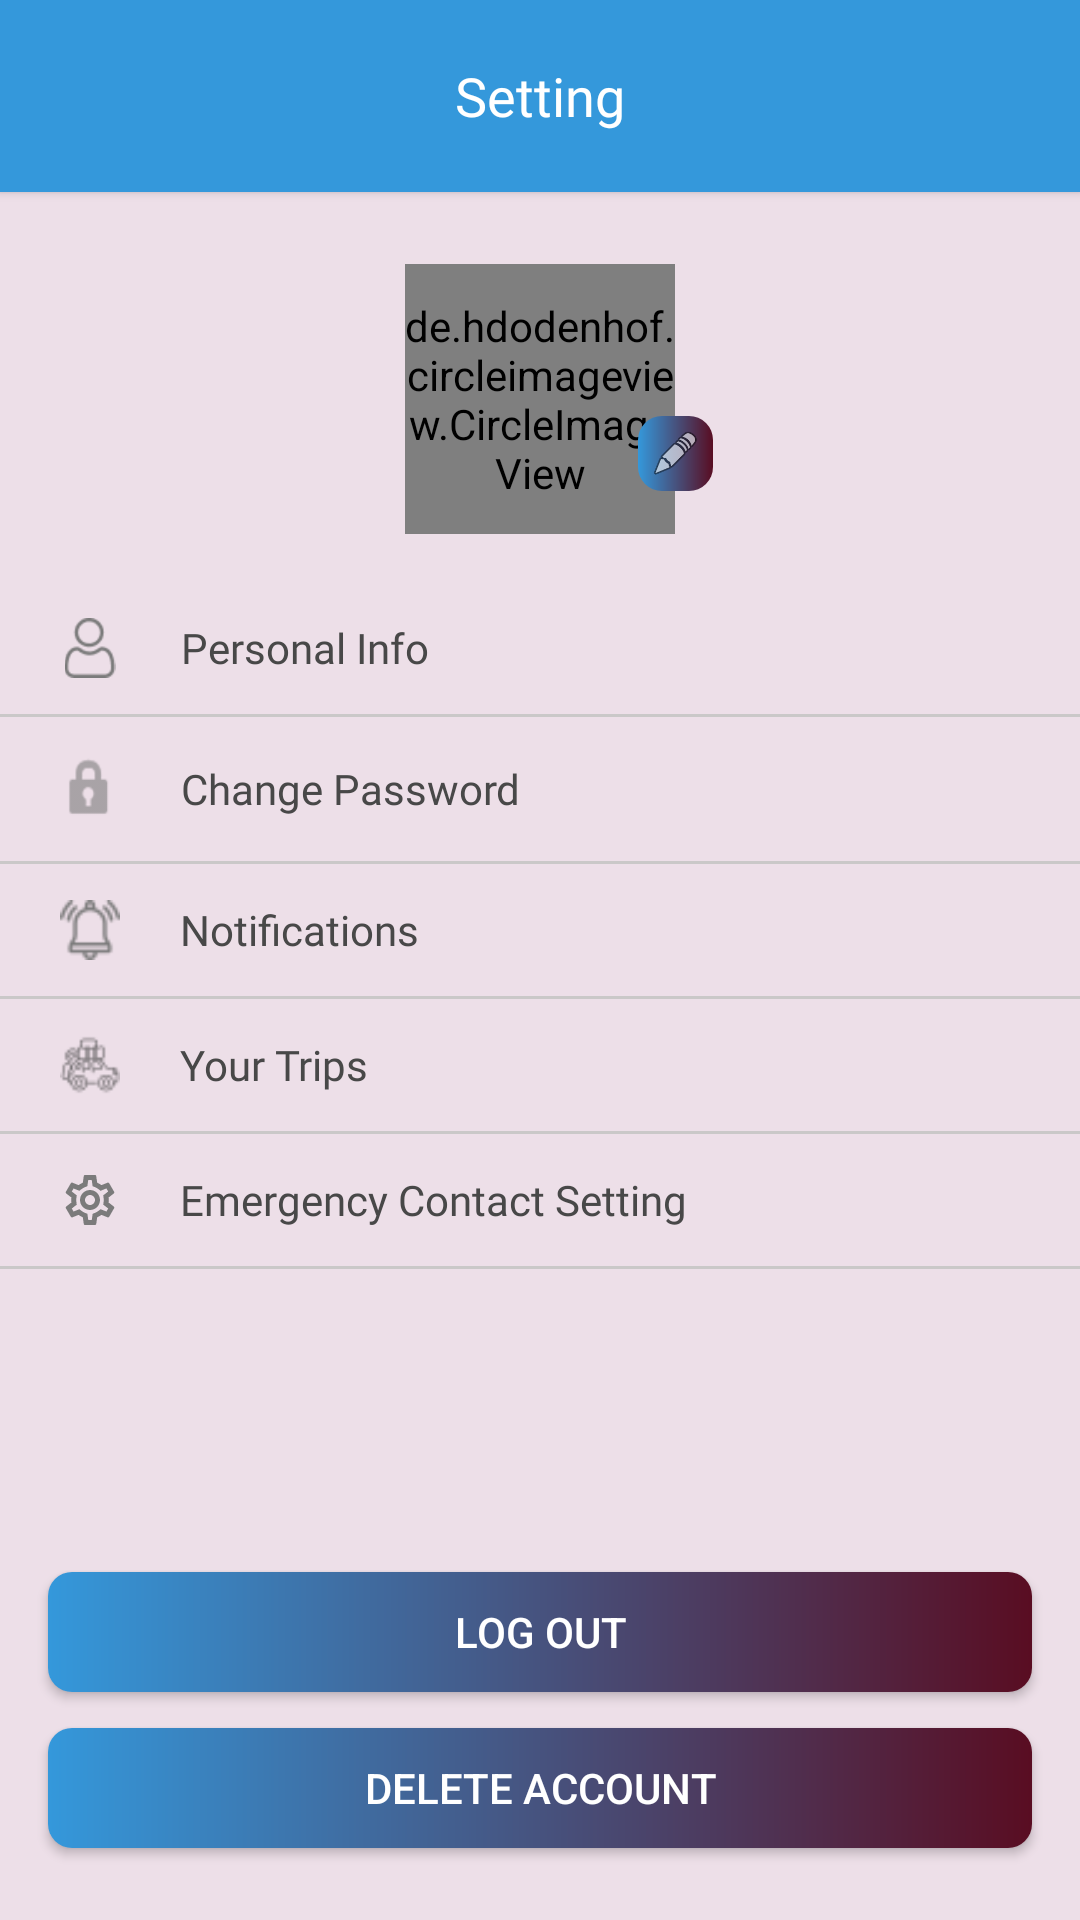

Icons on this 1080x1920 Android screen, each with the point to tap as (x=x, y=y):
edit: (x=675, y=453)
lock idle: (x=88, y=787)
settings: (x=90, y=1200)
user: (x=90, y=648)
